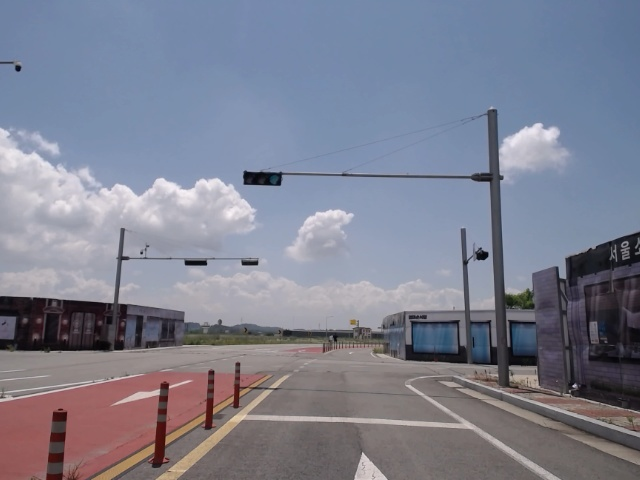green_3: (244, 173, 281, 186)
